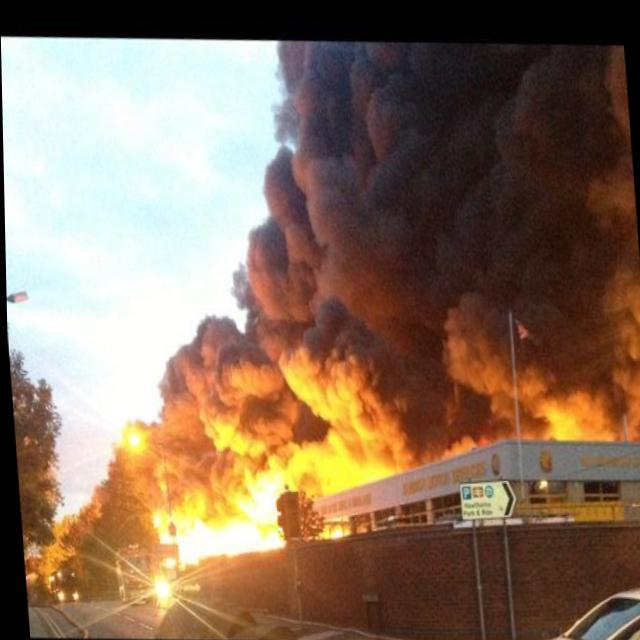fire: (150, 370, 415, 584)
